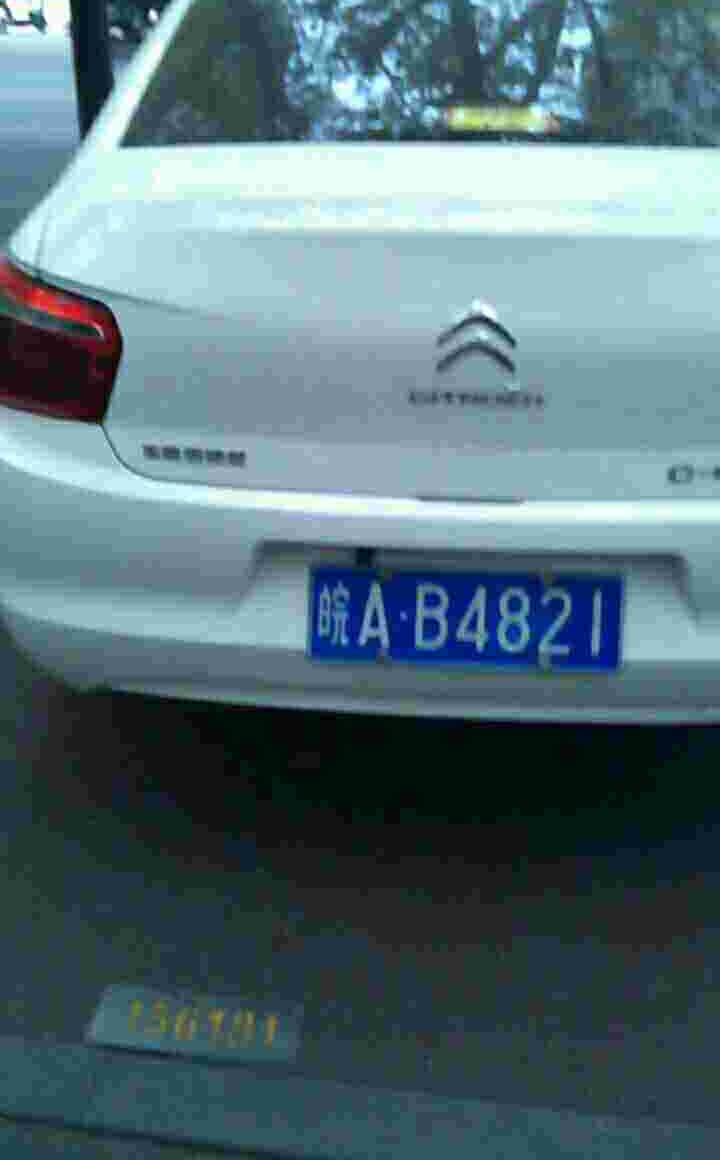license_plate: (299, 563, 620, 681)
